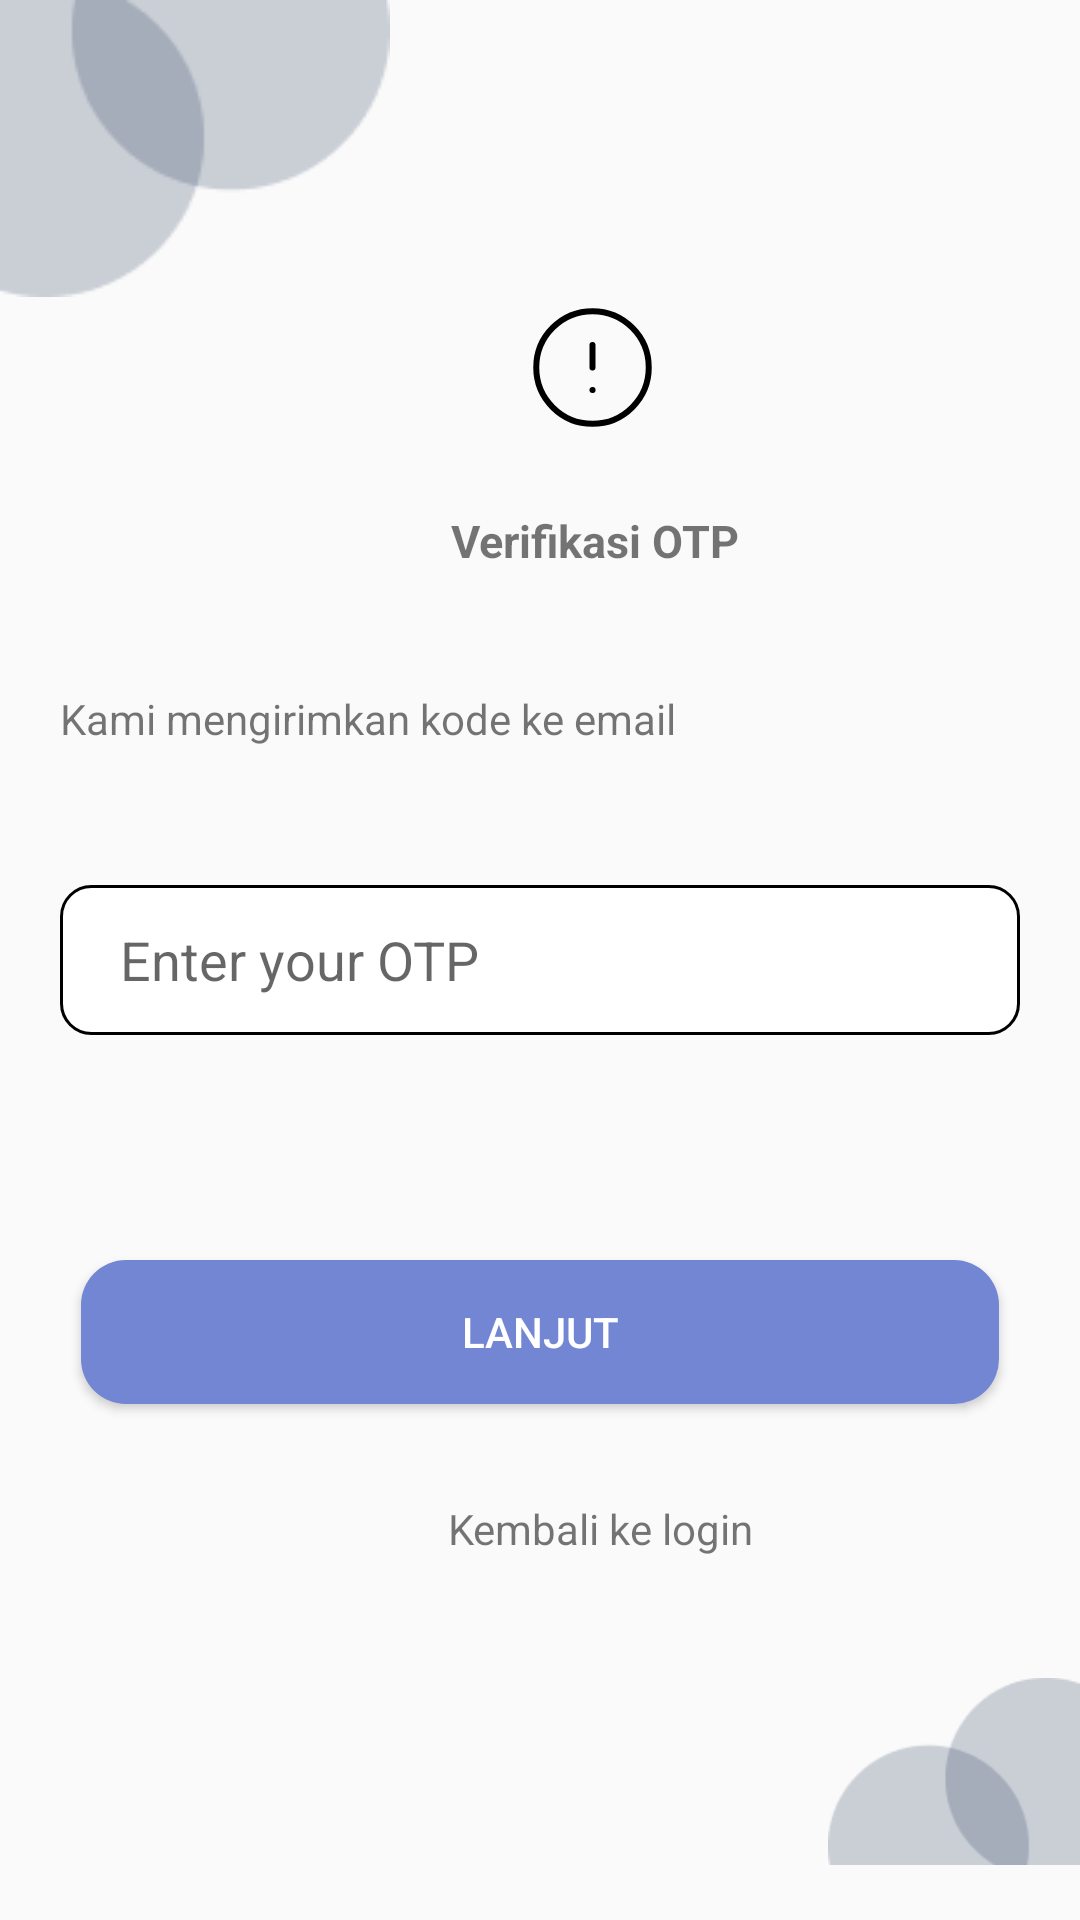

Locate icon controls on the screen. Image size 1080*1920, boxes as (x1, y1, x2, y2).
alert circle: (533, 308, 652, 427)
